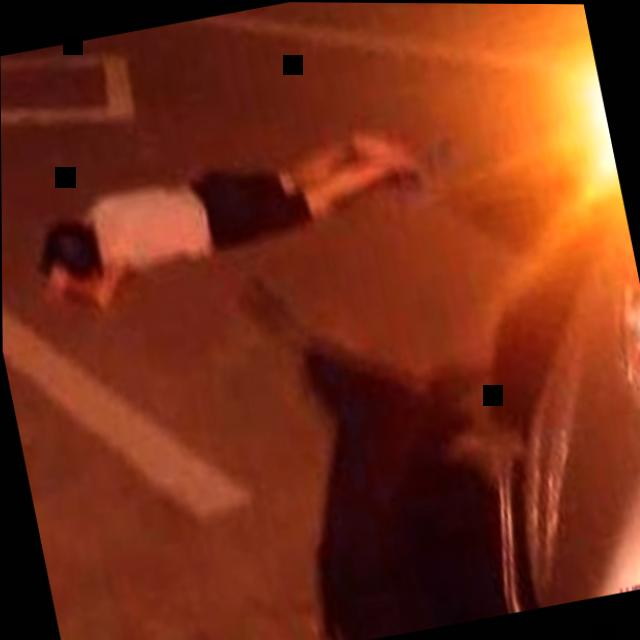Fall-Detected: (20, 86, 443, 330)
